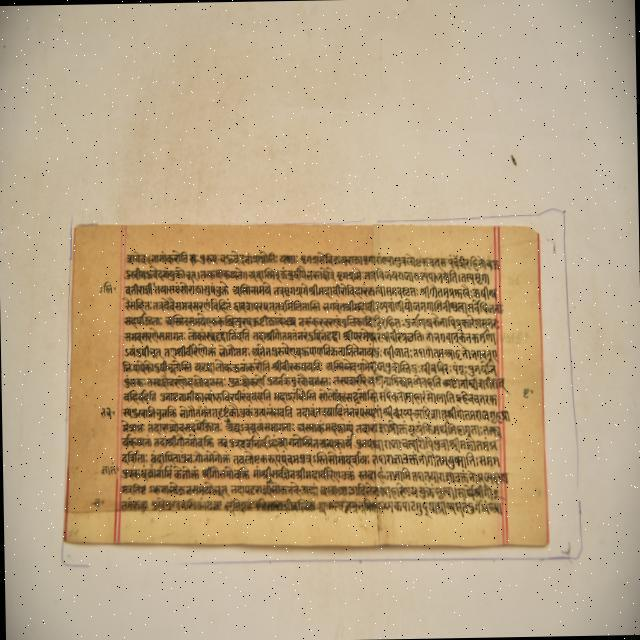text_paragraph: (62, 224, 546, 546)
